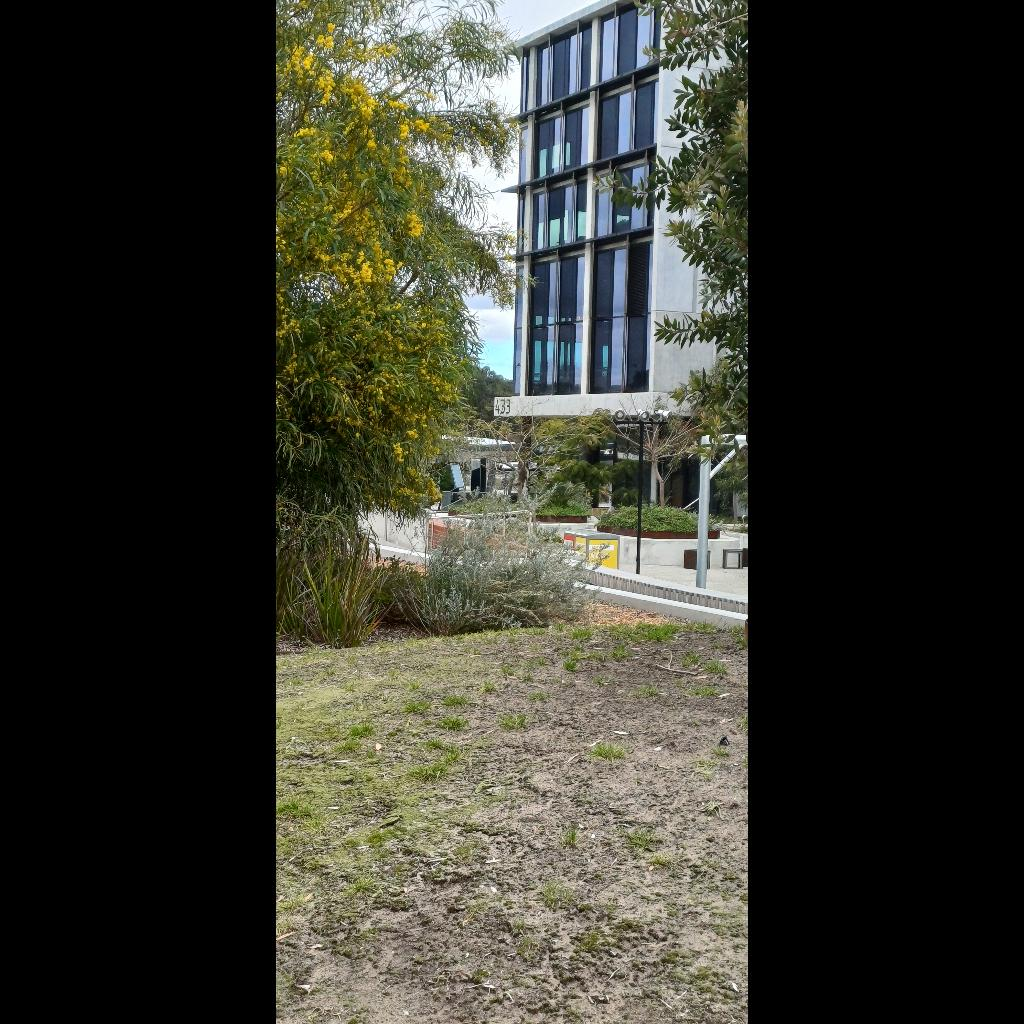BuildingCodes: (494, 396, 512, 416)
